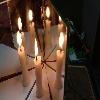fire: (34, 38, 39, 57)
